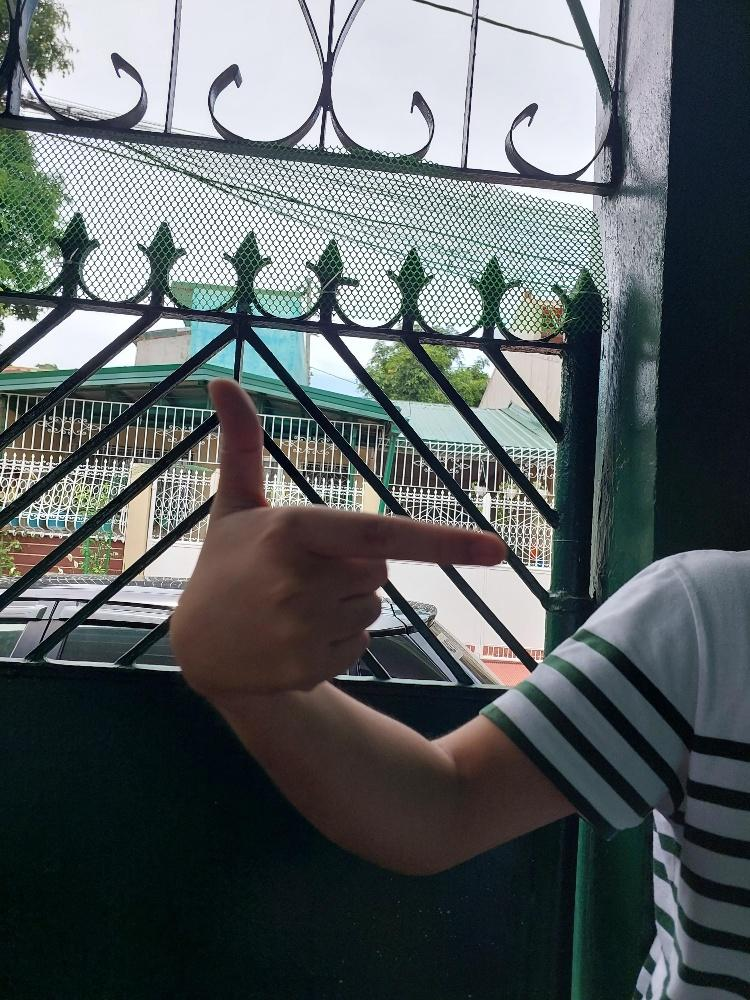g: (165, 373, 507, 703)
